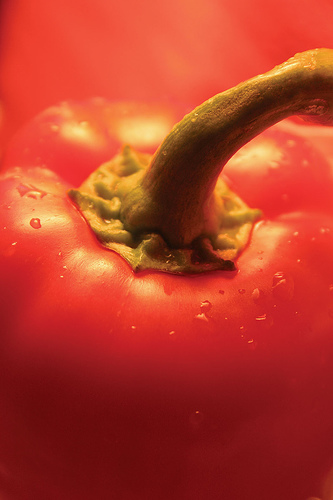capsicum: (1, 45, 331, 498)
